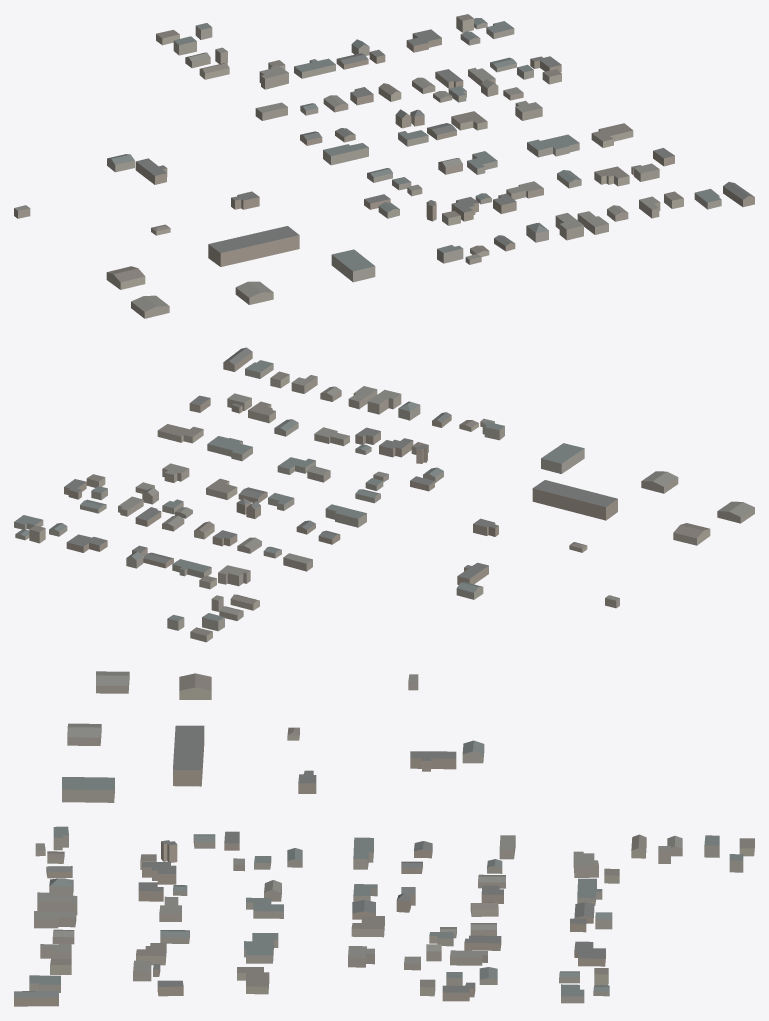
The model's file is d35239e3fc88-chunk-1205_11843.glb.
The picture shows the model from 3 angles, top to bottom: view 1: azimuth 30°, elevation 25°; view 2: azimuth 150°, elevation 25°; view 3: azimuth 270°, elevation 25°; orthographic projection. The views are drawn at different scales.
Visible parts, largest first — view 1: building_40481, building_167122, building_62193, building_129250, building_126545, building_51042, building_112029, building_59773, building_106172, building_151995, building_3700, building_99159 (+3 smaller); view 2: building_40481, building_167122, building_62193, building_129250, building_112029, building_126545, building_51042, building_59773, building_151995, building_99159, building_146571, building_69227 (+1 smaller); view 3: building_40481, building_167122, building_62193, building_106172, building_126545, building_51042, building_59773, building_151995, building_112029, building_161658, building_158684, building_99159 (+9 smaller).
Part boxes in pixels (x1,y1,x2,y2): building_40481: (208, 226, 299, 266); building_167122: (331, 249, 375, 282); building_62193: (527, 134, 579, 157); building_129250: (323, 143, 368, 165); building_126545: (106, 266, 145, 289); building_51042: (235, 281, 273, 304); building_112029: (591, 123, 633, 147); building_59773: (131, 295, 169, 318); building_106172: (135, 158, 167, 184); building_151995: (555, 213, 583, 240); building_3700: (294, 58, 335, 78); building_99159: (406, 29, 441, 52); building_40481: (532, 480, 617, 520); building_167122: (541, 443, 584, 473); building_62193: (207, 436, 252, 461); building_129250: (325, 504, 366, 527); building_112029: (157, 424, 203, 443); building_126545: (673, 523, 710, 545); building_51042: (641, 471, 678, 493); building_59773: (717, 501, 754, 523); building_151995: (367, 389, 401, 414); building_99159: (66, 534, 107, 552); building_146571: (218, 565, 250, 586); building_69227: (379, 438, 413, 457); building_40481: (173, 725, 204, 786); building_167122: (62, 777, 114, 802); building_62193: (244, 933, 278, 963); building_106172: (410, 751, 456, 771); building_126545: (179, 673, 211, 699); building_51042: (67, 723, 101, 745); building_59773: (96, 671, 129, 693); building_151995: (37, 892, 77, 915); building_112029: (237, 967, 269, 994); building_161658: (34, 911, 76, 928); building_158684: (14, 991, 58, 1006); building_99159: (574, 941, 605, 966).
Bounding box in the file's own units: 386 × 9.77 × 370.
